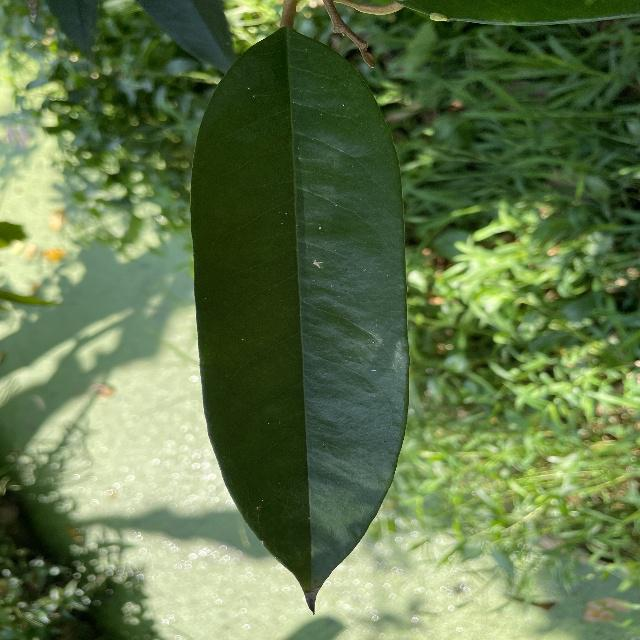No Disease: (181, 17, 415, 615)
